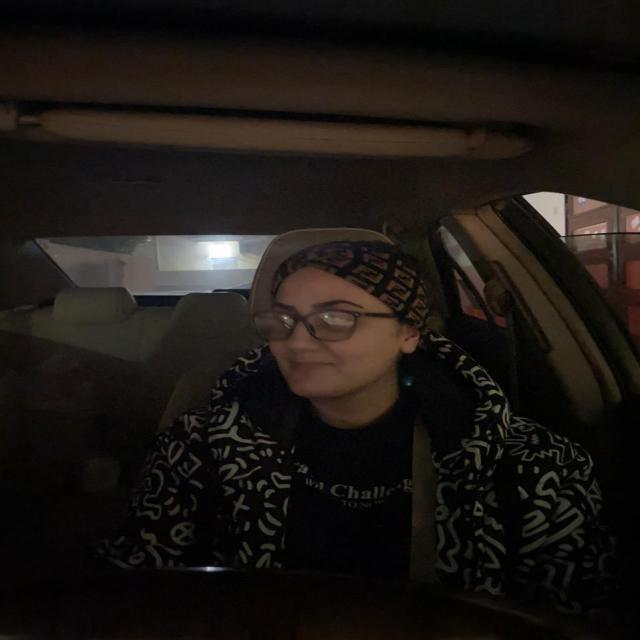person: (240, 235, 443, 411)
